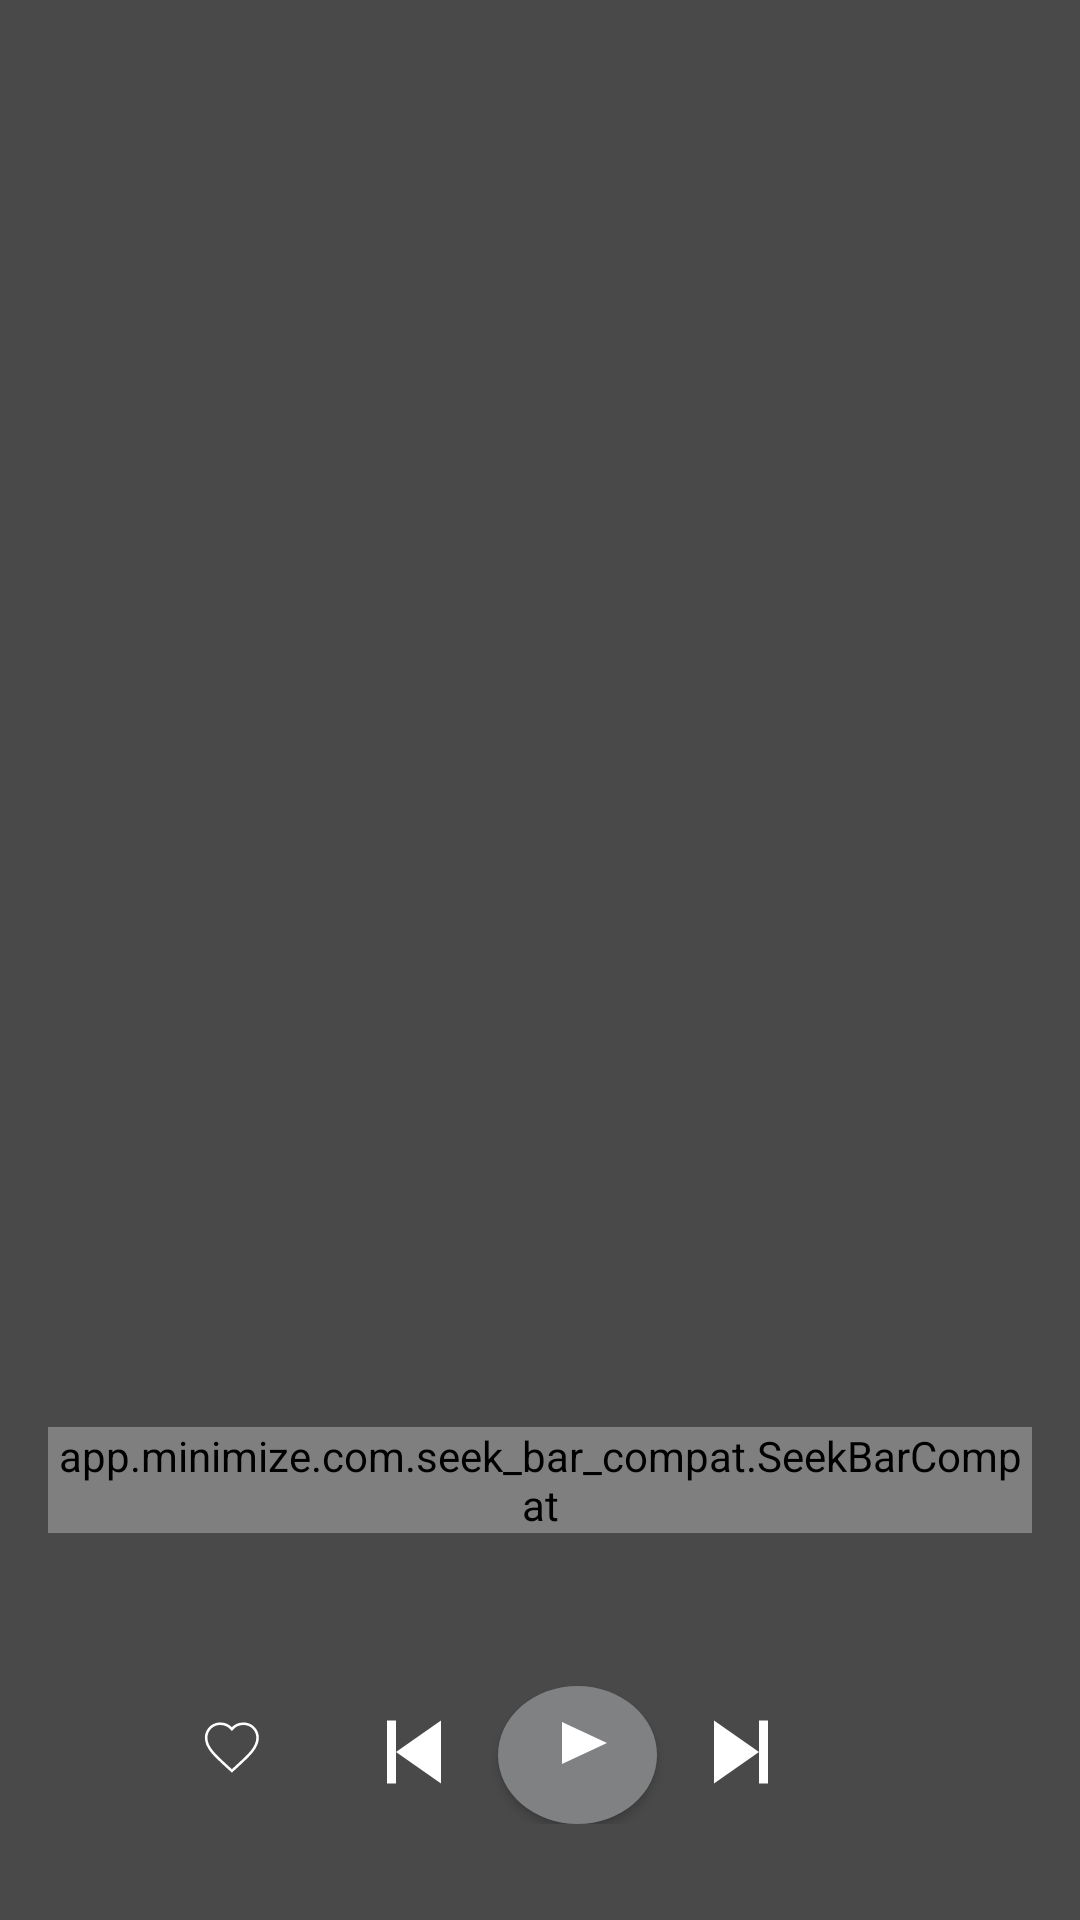

Named icons in this screenshot (1080x1920) and their bounding boxes, bbox=[x1, y1, x2, y2]:
favorite: bbox=[205, 1722, 259, 1773]
next track detail: bbox=[714, 1720, 768, 1784]
play butt detail: bbox=[498, 1686, 657, 1824]
prev track detail: bbox=[387, 1720, 441, 1784]
